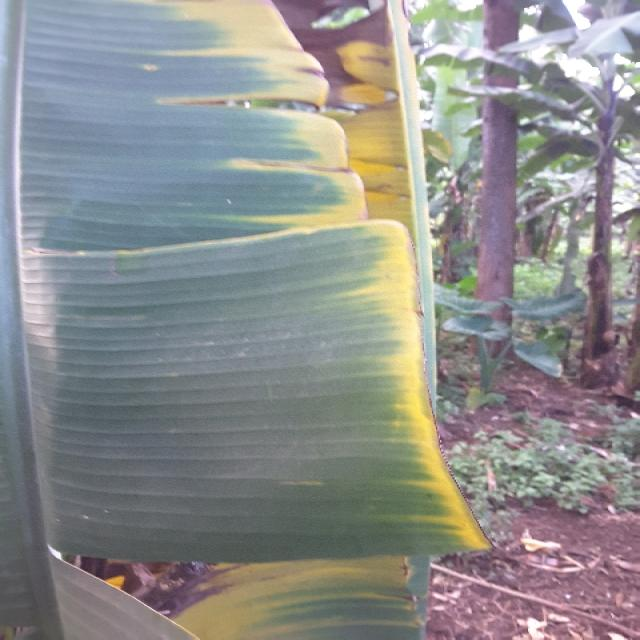Cordana: (112, 0, 496, 640)
